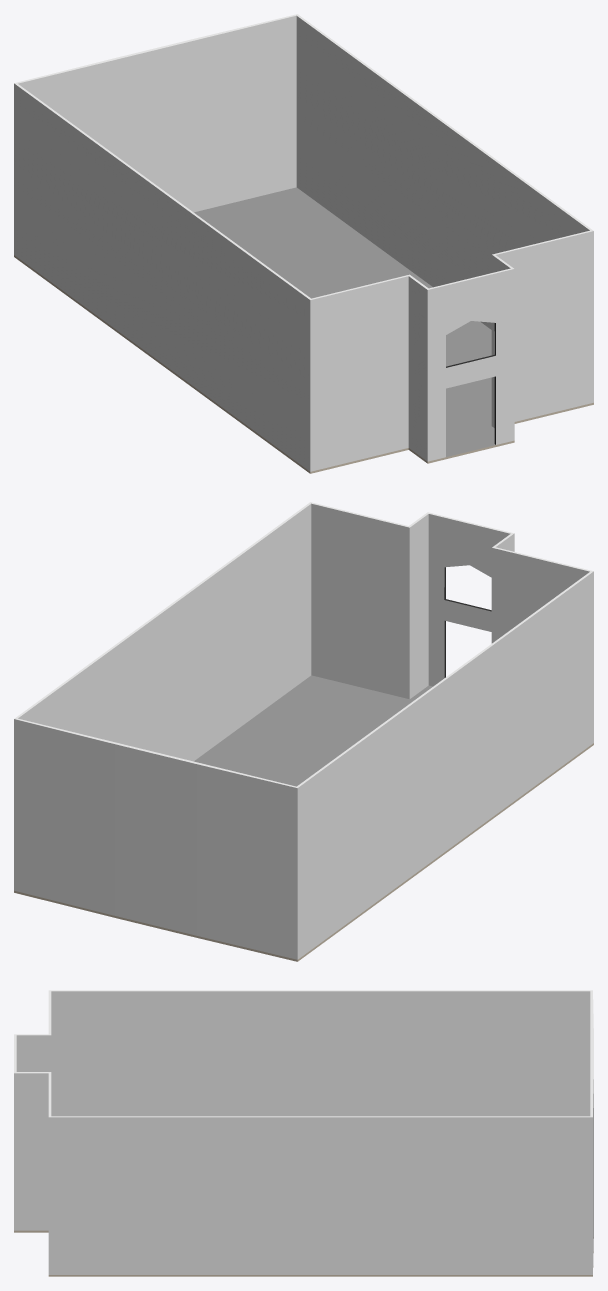
Rendered from StoreMKIII.fbx.
3 views of the same model, one above another, from view 1: azimuth 30°, elevation 25°; view 2: azimuth 150°, elevation 25°; view 3: azimuth 270°, elevation 25° (orthographic). The views are drawn at different scales.
Parts seen in each view (by area): view 1: Plane; view 2: Plane; view 3: Plane.
Part boxes in pixels (x1=…): Plane: x1=14, y1=14, x2=593, y2=473; Plane: x1=14, y1=502, x2=593, y2=961; Plane: x1=14, y1=990, x2=593, y2=1276.
Size of the model in its own units: 1729 by 1012 by 3335.
